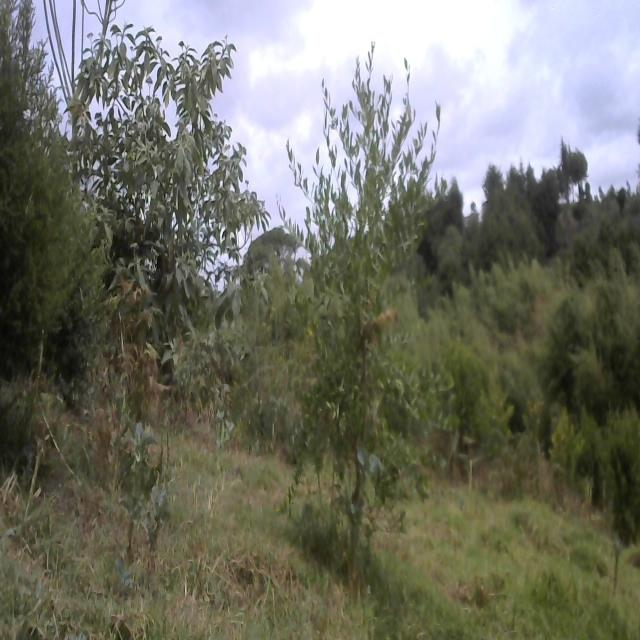Lemon Myrtle: (296, 79, 457, 596)
cedrus: (0, 0, 81, 357)
other: (64, 0, 248, 489)
